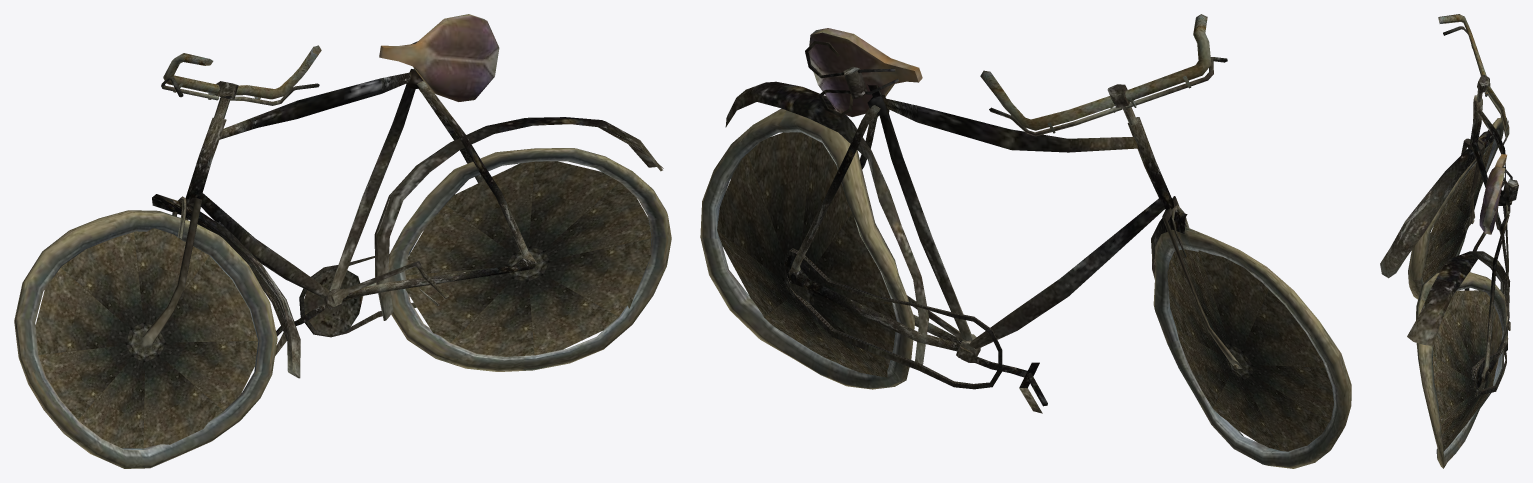
The model's file is prop_bike_destroyed.glb.
3 views of the same model, side by side, from view 1: azimuth 30°, elevation 25°; view 2: azimuth 150°, elevation 25°; view 3: azimuth 270°, elevation 25° (orthographic). The views are drawn at different scales.
Size of the model in its own units: 68.53 by 42.43 by 17.23.
Materials: 1 (1 with a texture image).
